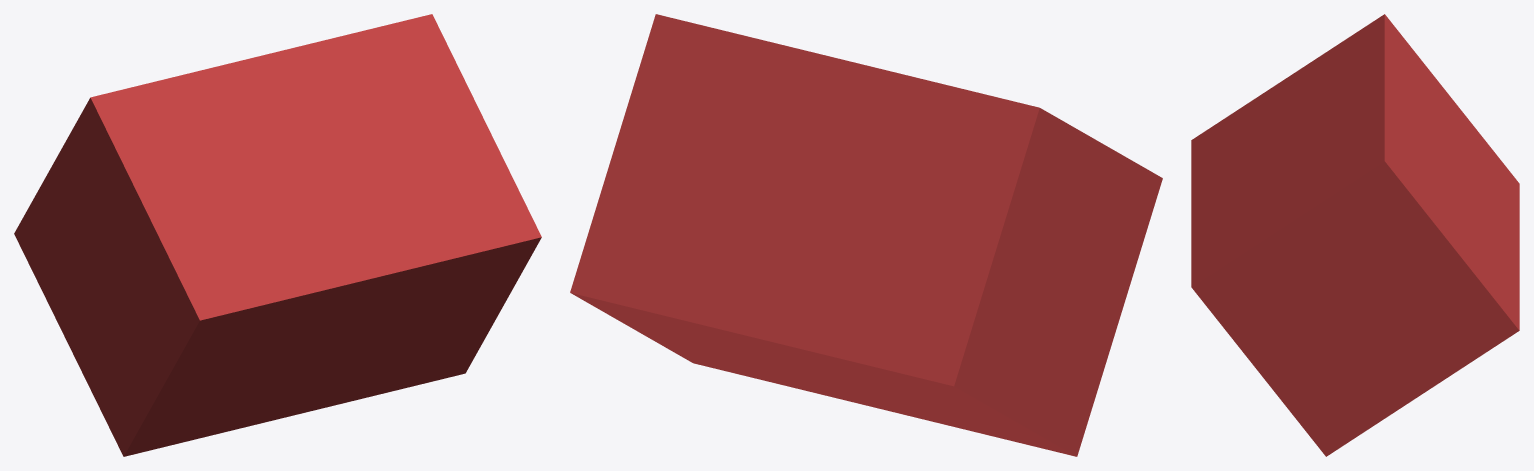
The model's file is red1 .fbx.
3 renders of one model, left to right at view 1: azimuth 30°, elevation 25°; view 2: azimuth 150°, elevation 25°; view 3: azimuth 270°, elevation 25°, orthographic. The views are drawn at different scales.
Parts seen in each view (by area): view 1: objects; view 2: objects; view 3: objects.
Part boxes in pixels (left/top/right/bottom): objects: left=14, top=14, right=541, bottom=456; objects: left=570, top=14, right=1162, bottom=456; objects: left=1191, top=14, right=1519, bottom=456.
Size of the model in its own units: 0.6482 by 0.6105 by 0.6073.
